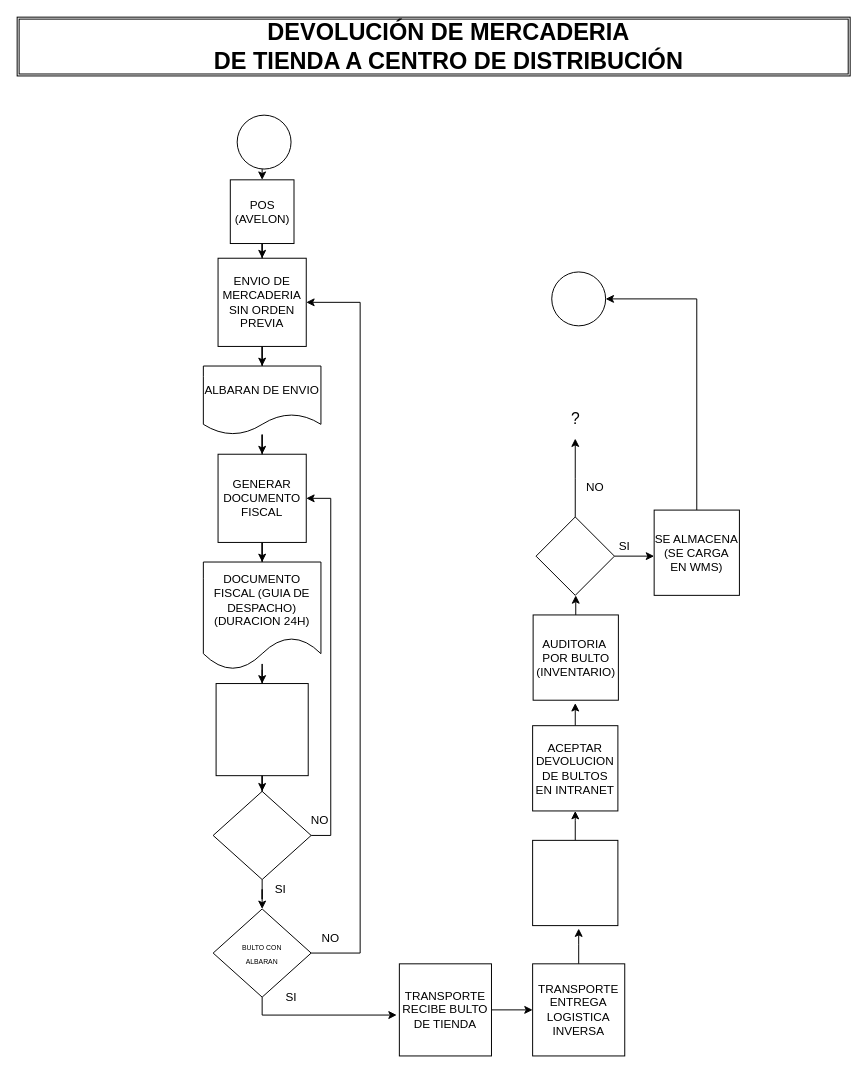
This 867x1073 diagram has some shape labels left out. The centre of each missing label's shape, as x and y in pixels:
AUDITORIA SIN DIFERENCIAS: pixel 574 555
BULTO CON GUIA DE DESPACHO: pixel 261 835
FIN: pixel 578 298
Inicio: pixel 263 141
LOSGISTICA INVERSA RECIBE DE TRANSPORTE: pixel 575 882
TIENDA ENTREGA A BULTOS TRANSPORTE: pixel 261 729
